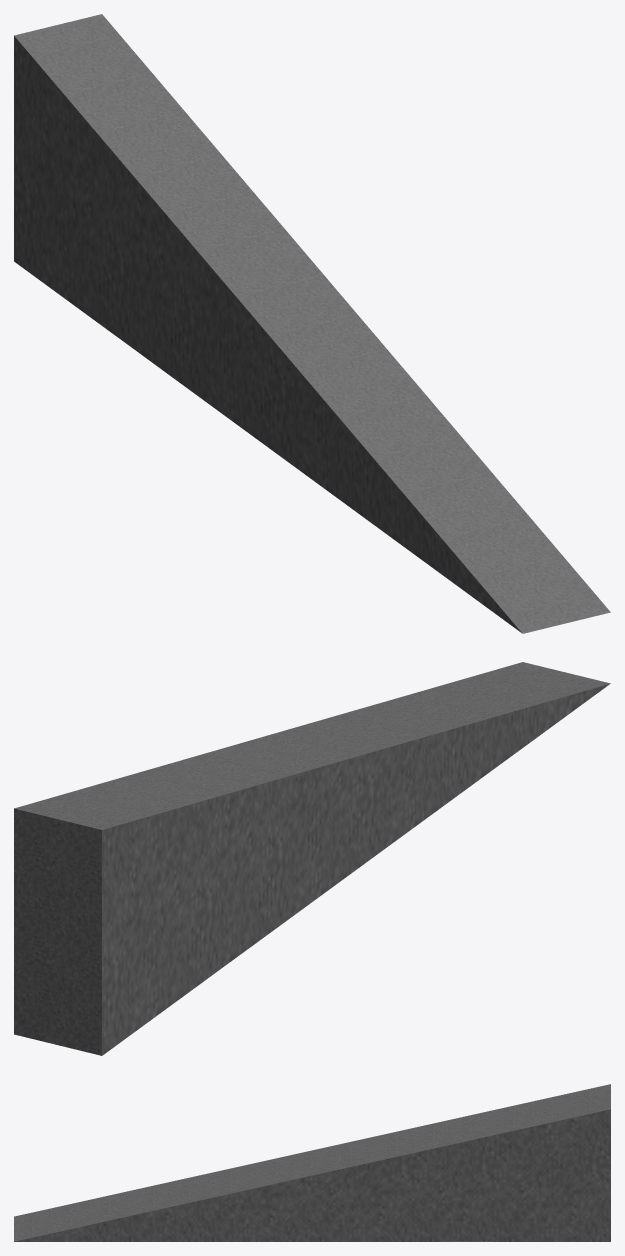
Rendered from ramp10.glb.
The picture shows the model from 3 angles, top to bottom: view 1: azimuth 30°, elevation 25°; view 2: azimuth 150°, elevation 25°; view 3: azimuth 270°, elevation 25°; orthographic projection. The views are drawn at different scales.
Parts seen in each view (by area): view 1: Segment10, Segment9, Segment8, Segment7, Segment6, Segment5, Segment4, Segment3, Segment2, Segment1; view 2: Segment10, Segment9, Segment8, Segment7, Segment6, Segment5, Segment4, Segment3, Segment2, Segment1; view 3: Segment10, Segment9, Segment8, Segment7, Segment6, Segment5, Segment4, Segment3, Segment2, Segment1.
Part boxes in pixels (<box>): Segment10: <box>14,14,152,298</box>; Segment9: <box>65,74,203,335</box>; Segment8: <box>115,133,254,372</box>; Segment7: <box>166,193,305,410</box>; Segment6: <box>217,253,356,447</box>; Segment5: <box>268,313,406,484</box>; Segment4: <box>319,373,457,521</box>; Segment3: <box>370,433,508,558</box>; Segment2: <box>421,493,559,596</box>; Segment1: <box>472,552,610,633</box>; Segment10: <box>14,794,152,1055</box>; Segment9: <box>65,779,203,1018</box>; Segment8: <box>116,764,254,980</box>; Segment7: <box>167,750,305,943</box>; Segment6: <box>218,735,356,906</box>; Segment5: <box>269,720,407,869</box>; Segment4: <box>320,706,458,832</box>; Segment3: <box>371,691,509,794</box>; Segment2: <box>422,676,559,757</box>; Segment1: <box>472,662,610,720</box>; Segment10: <box>551,1084,610,1241</box>; Segment9: <box>491,1097,551,1241</box>; Segment8: <box>432,1110,491,1241</box>; Segment7: <box>372,1124,431,1241</box>; Segment6: <box>312,1137,372,1241</box>; Segment5: <box>252,1150,312,1241</box>; Segment4: <box>193,1163,252,1241</box>; Segment3: <box>133,1177,192,1241</box>; Segment2: <box>73,1190,133,1241</box>; Segment1: <box>14,1203,73,1241</box>.
Bounding box in the file's own units: 1 × 2.45 × 10.
Materials: 1 (1 with a texture image).
